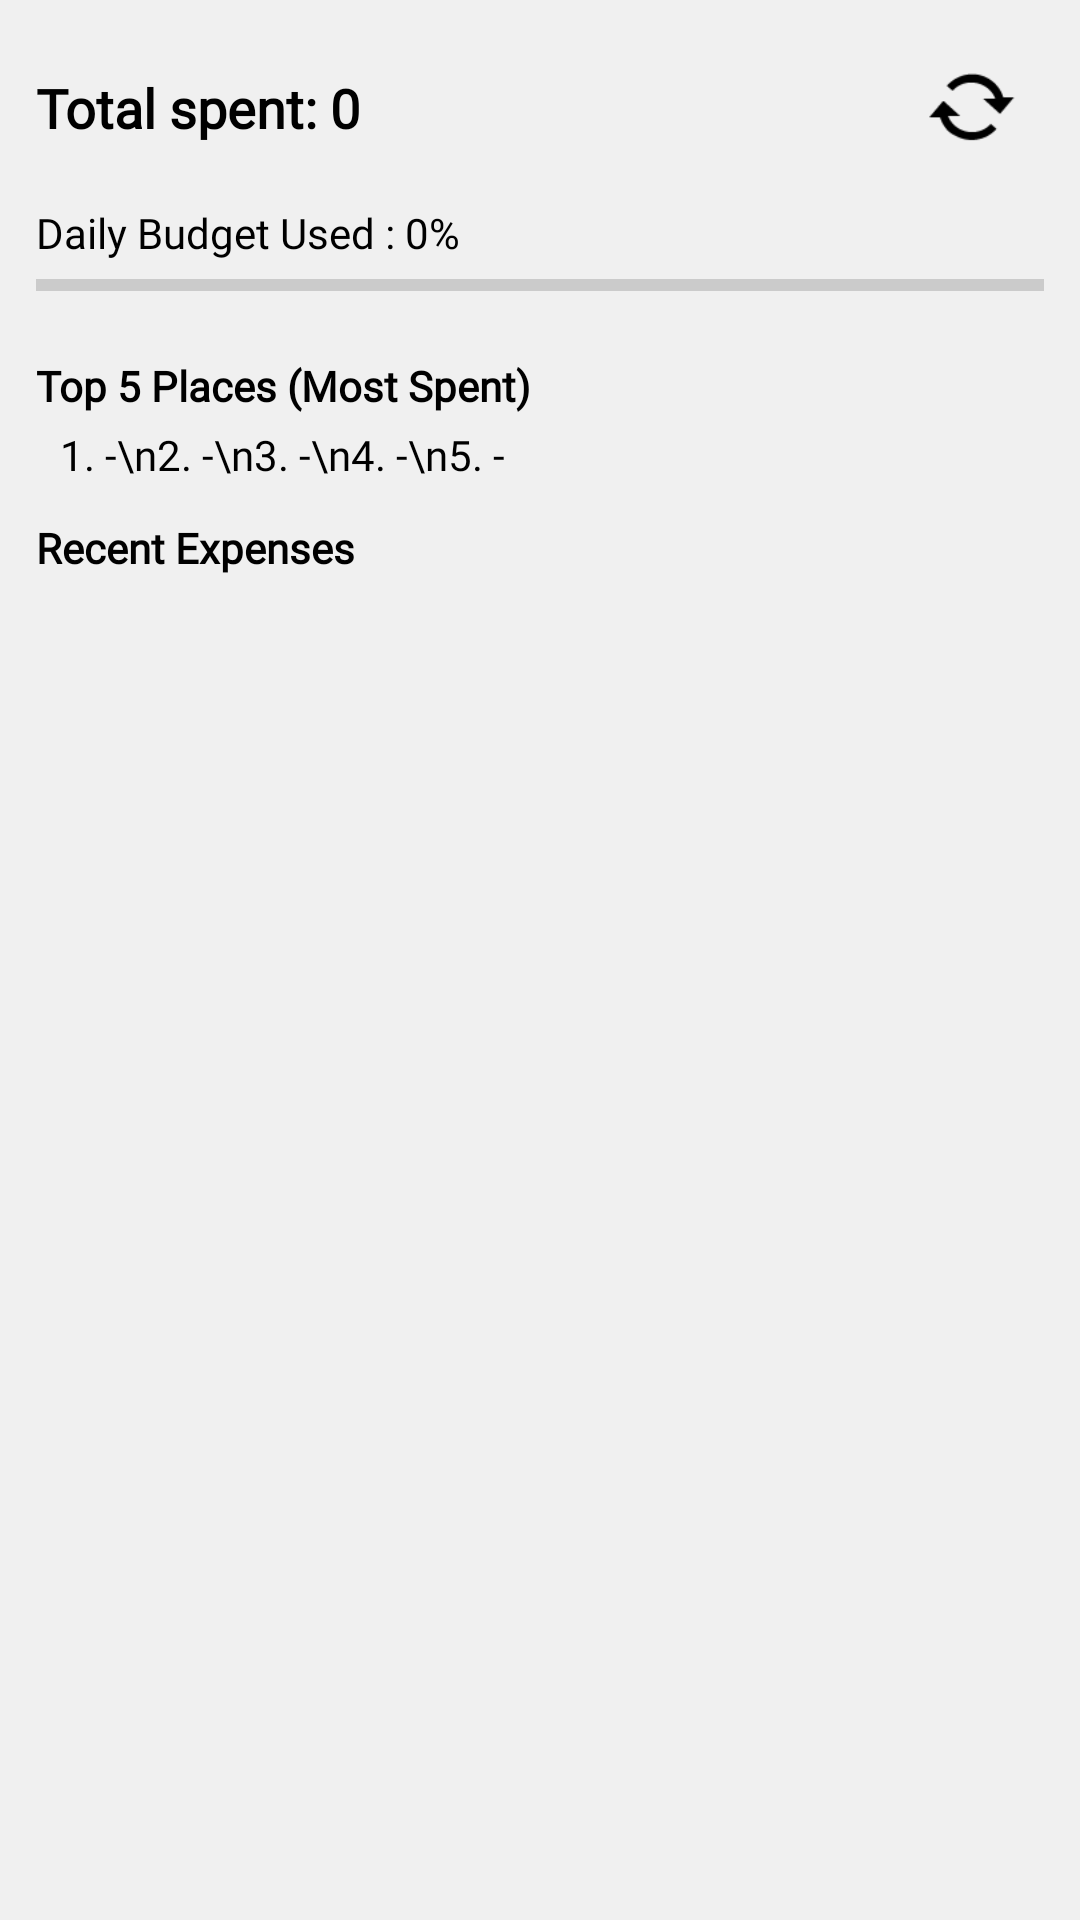

Icons on this 1080px×1920px Android screen, each with the point to tap as (x=x, y=y):
Refresh: (x=971, y=107)
